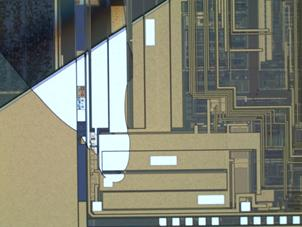SCRATCH: (1, 1, 172, 185)
